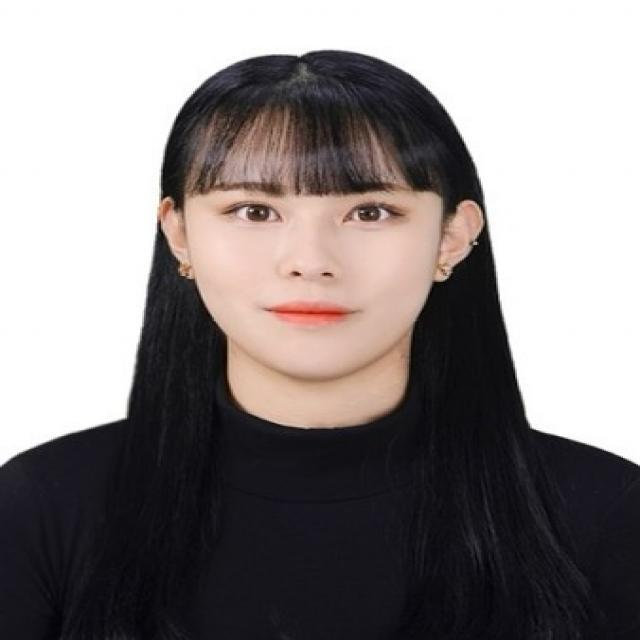Nonhelmet: (142, 35, 507, 388)
